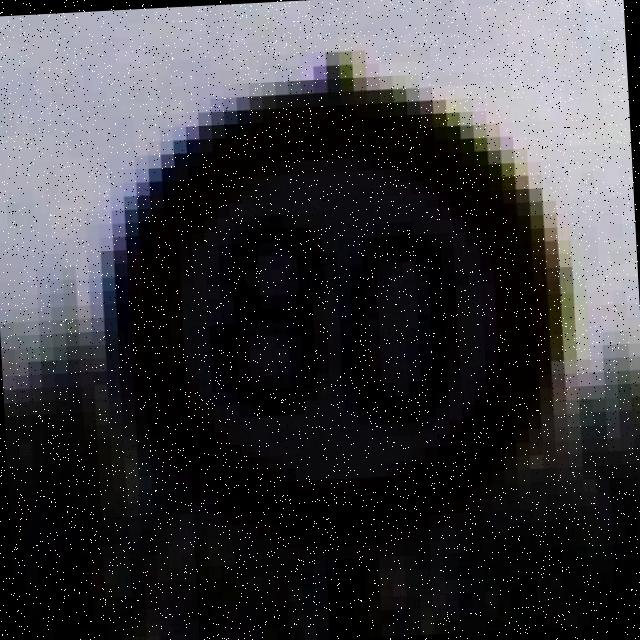Ograniczenie predkosci do 80: (108, 86, 565, 544)
